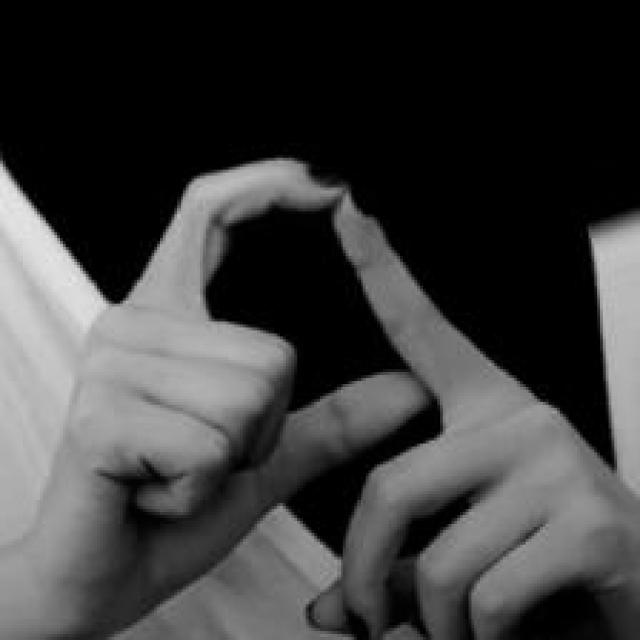D: (55, 150, 535, 638)
